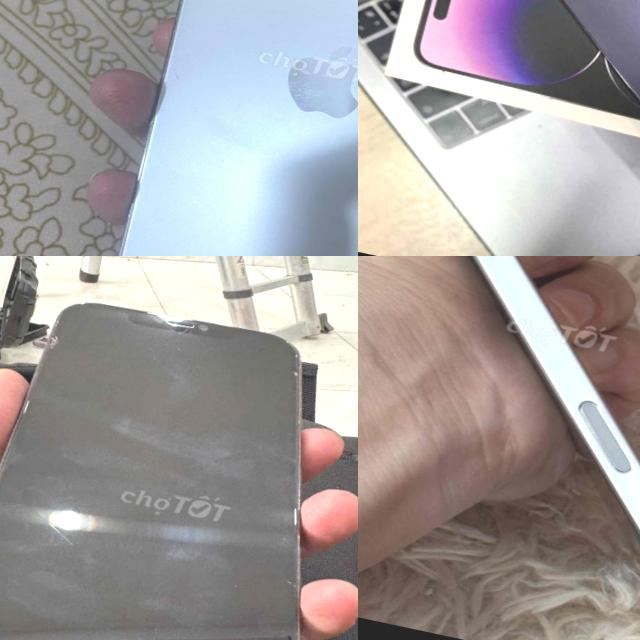physical_damage: (0, 476, 327, 640), (28, 312, 86, 368), (142, 304, 204, 346)
